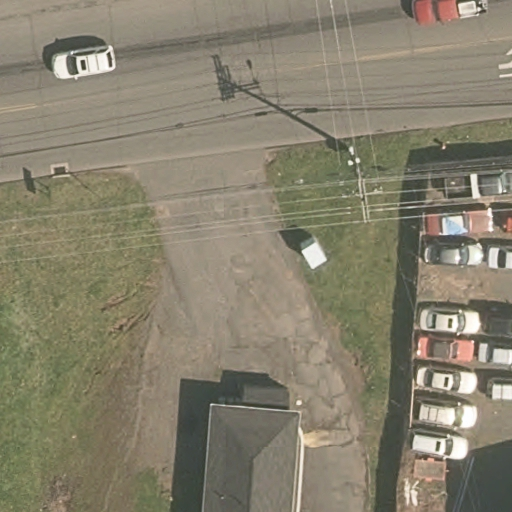DT: (340, 140, 381, 229)
